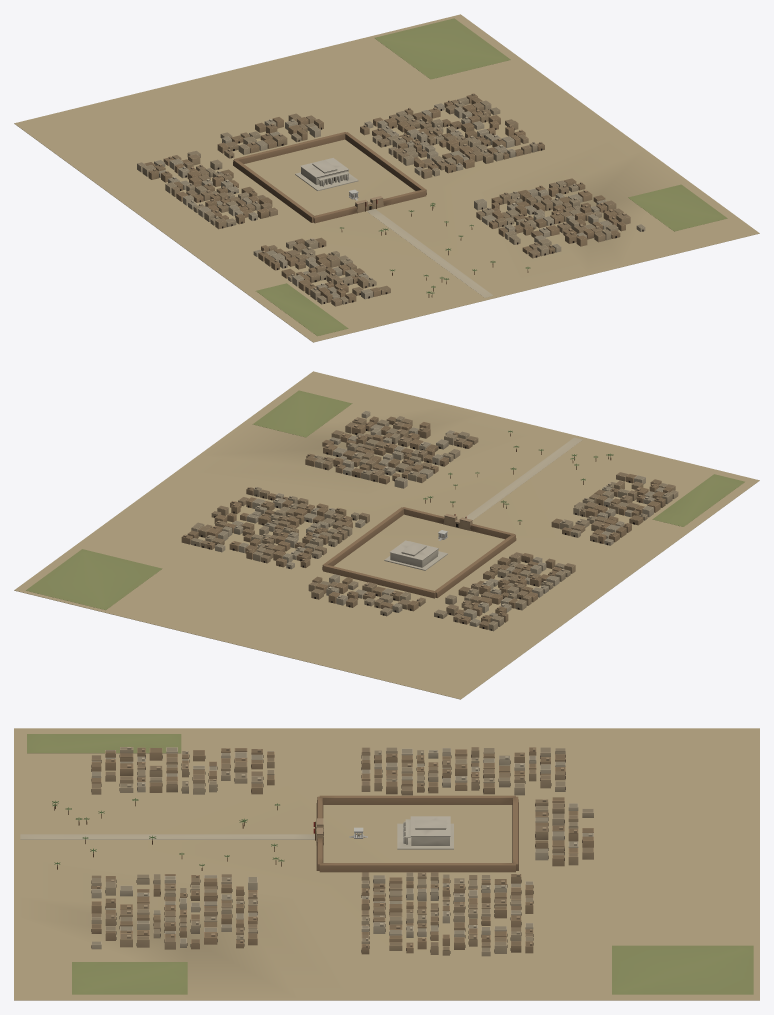
The model's file is karnak-1950.glb.
The picture shows the model from 3 angles, top to bottom: view 1: azimuth 30°, elevation 25°; view 2: azimuth 150°, elevation 25°; view 3: azimuth 270°, elevation 25°; orthographic projection. The views are drawn at different scales.
Parts seen in each view (by area): view 1: p0_walls, p3_town, p1_temple; view 2: p0_walls, p3_town, p1_temple; view 3: p0_walls, p3_town, p1_temple.
Part boxes in pixels (box(x1,y1,x2,y2)): p0_walls: box(14, 14, 759, 342); p3_town: box(137, 93, 645, 306); p1_temple: box(295, 158, 493, 297); p0_walls: box(14, 371, 759, 699); p3_town: box(181, 410, 678, 631); p1_temple: box(384, 437, 582, 570); p0_walls: box(14, 728, 759, 1000); p3_town: box(52, 747, 593, 956); p1_temple: box(20, 816, 453, 849).
Size of the model in its own units: 500 by 11.29 by 580.
